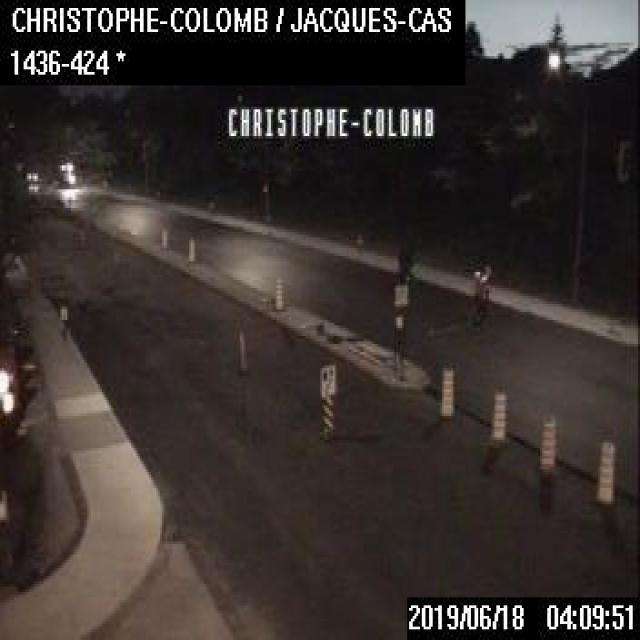construction: (592, 438, 614, 502), (536, 416, 554, 469), (487, 392, 504, 440), (436, 368, 453, 416), (273, 270, 283, 310), (187, 232, 194, 264), (160, 222, 167, 252)
cyclist: (461, 260, 493, 329)
